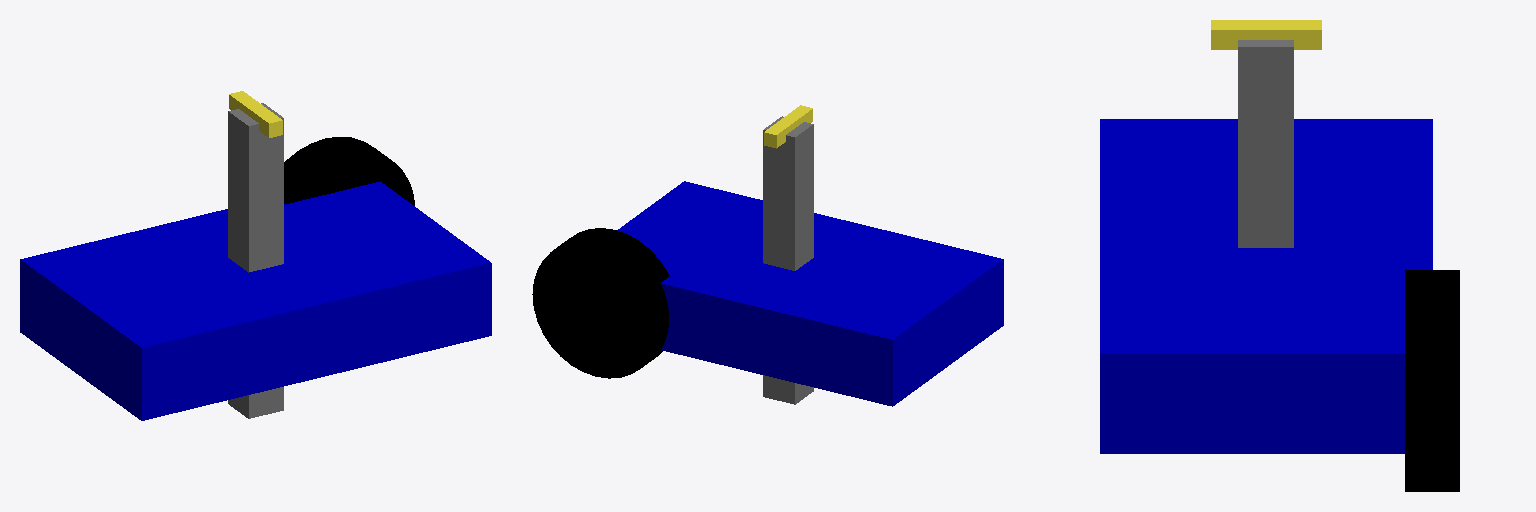
robot.urdf — my_custom_robot:
<?xml version="1.0"?>
<robot name="my_custom_robot">

  <link name="base_link">
    <visual>
      <geometry>
        <box size="0.5 0.3 0.1"/>
      </geometry>
      <material name="blue"><color rgba="0 0 0.8 1"/></material>
    </visual>
    <collision>
      <geometry><box size="0.5 0.3 0.1"/></geometry>
    </collision>
    <inertial>
      <mass value="5.0"/>
      <inertia ixx="0.01" ixy="0" ixz="0" iyy="0.01" iyz="0" izz="0.01"/>
    </inertial>
  </link>

  <link name="front_left_wheel">
    <visual>
      <geometry><cylinder length="0.05" radius="0.1"/></geometry>
      <material name="black"><color rgba="0 0 0 1"/></material>
    </visual>
  </link>

  <joint name="front_left_wheel_joint" type="continuous">
    <parent link="base_link"/>
    <child link="front_left_wheel"/>
    <origin xyz="0.2 0.15 0" rpy="1.5708 0 0"/> <axis xyz="0 0 1"/>
  </joint>

  <link name="arm_link">
    <visual>
      <geometry><box size="0.05 0.05 0.4"/></geometry>
      <material name="grey"><color rgba="0.5 0.5 0.5 1"/></material>
    </visual>
  </link>

  <joint name="arm_extension_joint" type="prismatic">
    <parent link="base_link"/>
    <child link="arm_link"/>
    <origin xyz="0 0 0.05" rpy="0 0 0"/>
    <axis xyz="0 0 1"/> <limit lower="0" upper="0.3" effort="10" velocity="1.0"/>
  </joint>

  <link name="gripper_finger">
    <visual>
      <geometry><box size="0.02 0.1 0.02"/></geometry>
    </visual>
  </link>

  <joint name="gripper_joint" type="revolute">
    <parent link="arm_link"/>
    <child link="gripper_finger"/>
    <origin xyz="0 0 0.2" rpy="0 0 0"/>
    <axis xyz="0 1 0"/>
    <limit lower="-0.5" upper="0.5" effort="5" velocity="1.0"/>
  </joint>

</robot>

--- What the picture shows (computed from the rendered views, not written in the file) ---
The picture shows the robot from 3 angles, left to right: view 1: azimuth 30°, elevation 25°; view 2: azimuth 150°, elevation 25°; view 3: azimuth 270°, elevation 25°; orthographic projection.
Robot: my_custom_robot — 4 links, 3 joints (1 revolute, 1 continuous, 1 prismatic); root link base_link; default pose: every joint at zero.
Visible links, largest first — view 1: base_link, arm_link, front_left_wheel, gripper_finger; view 2: base_link, front_left_wheel, arm_link, gripper_finger; view 3: base_link, front_left_wheel, arm_link, gripper_finger.
Link boxes in pixels (bbox=[...]): base_link: bbox=[20, 181, 491, 420]; arm_link: bbox=[228, 103, 283, 418]; front_left_wheel: bbox=[284, 137, 414, 205]; gripper_finger: bbox=[229, 91, 282, 137]; base_link: bbox=[617, 181, 1003, 406]; front_left_wheel: bbox=[532, 228, 669, 378]; arm_link: bbox=[763, 116, 813, 404]; gripper_finger: bbox=[764, 105, 812, 148]; base_link: bbox=[1100, 119, 1432, 453]; front_left_wheel: bbox=[1405, 270, 1459, 491]; arm_link: bbox=[1238, 40, 1293, 247]; gripper_finger: bbox=[1211, 20, 1321, 49].
Size in the robot's own frame: 0.55 by 0.325 by 0.41 metres.
Geometry: primitives only (box / cylinder / sphere), no mesh files.